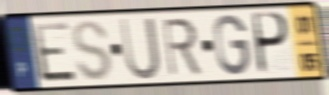E: (30, 19, 80, 84)
G: (212, 12, 252, 78)
P: (252, 10, 291, 77)
R: (160, 16, 204, 79)
S: (71, 18, 114, 83)
U: (117, 15, 163, 82)
